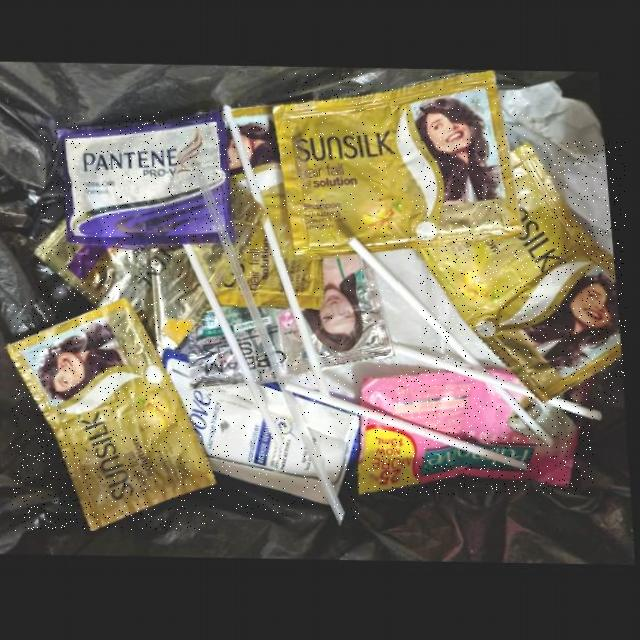wrapper: (39, 122, 277, 369), (419, 141, 626, 405), (10, 298, 219, 531), (281, 73, 528, 260), (166, 351, 362, 519), (363, 371, 593, 494), (190, 257, 398, 390), (66, 111, 241, 248)
